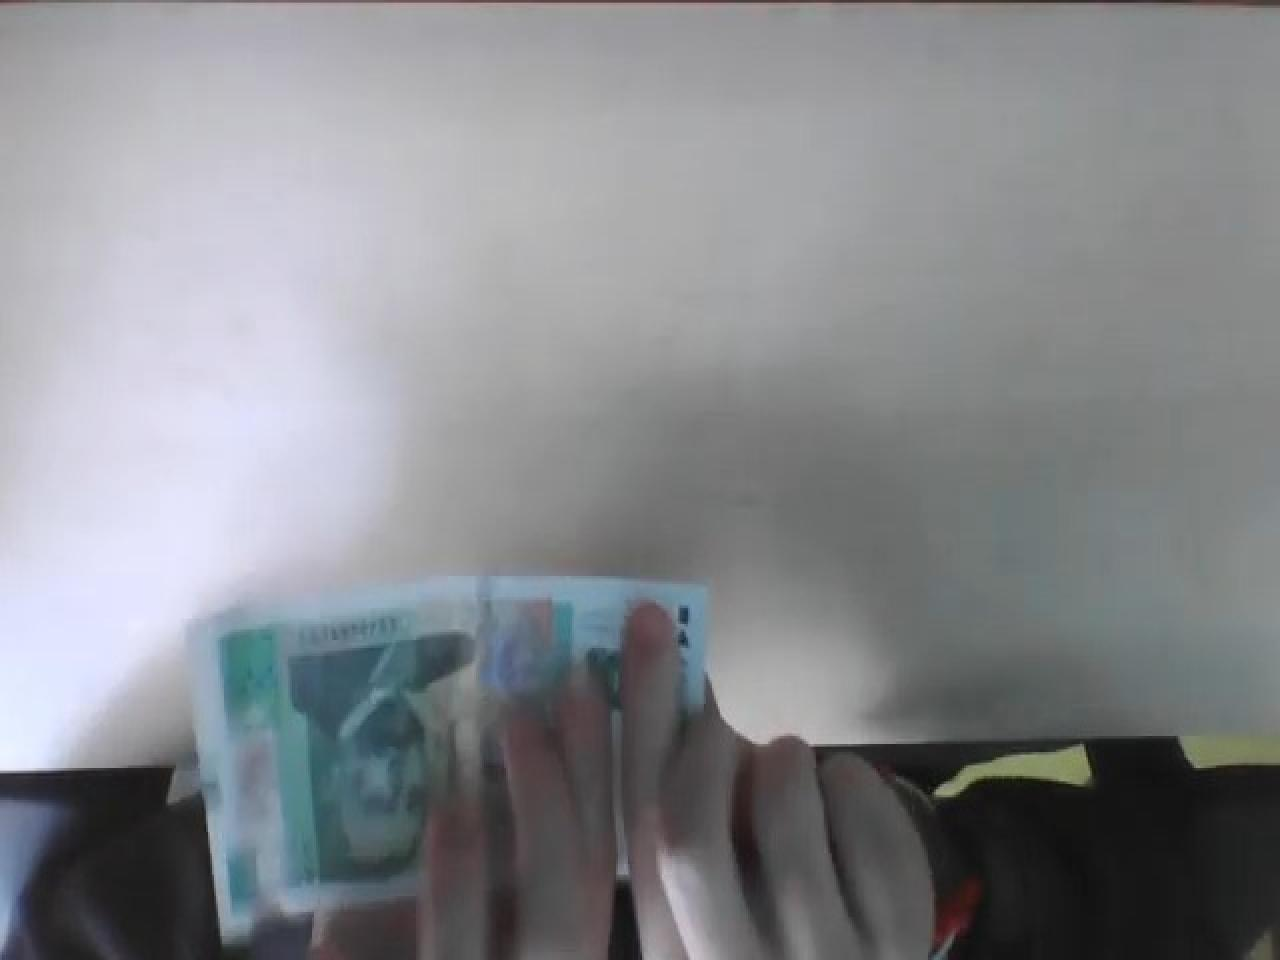100leva: (184, 570, 710, 938)
